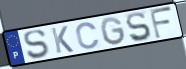C: (75, 21, 101, 51)
F: (148, 5, 174, 40)
G: (99, 16, 127, 47)
K: (50, 25, 75, 55)
S: (125, 11, 153, 43), (23, 28, 50, 61)
